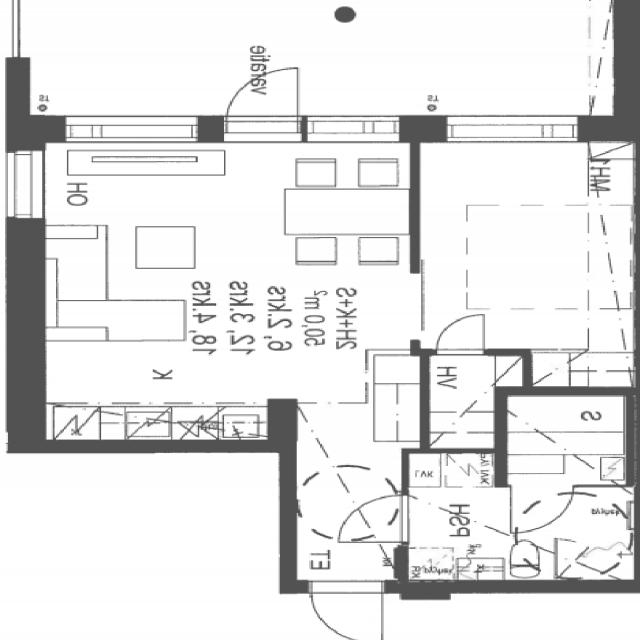door: (227, 64, 298, 142), (313, 580, 383, 640), (339, 496, 409, 542), (511, 483, 574, 533), (437, 313, 484, 354)
